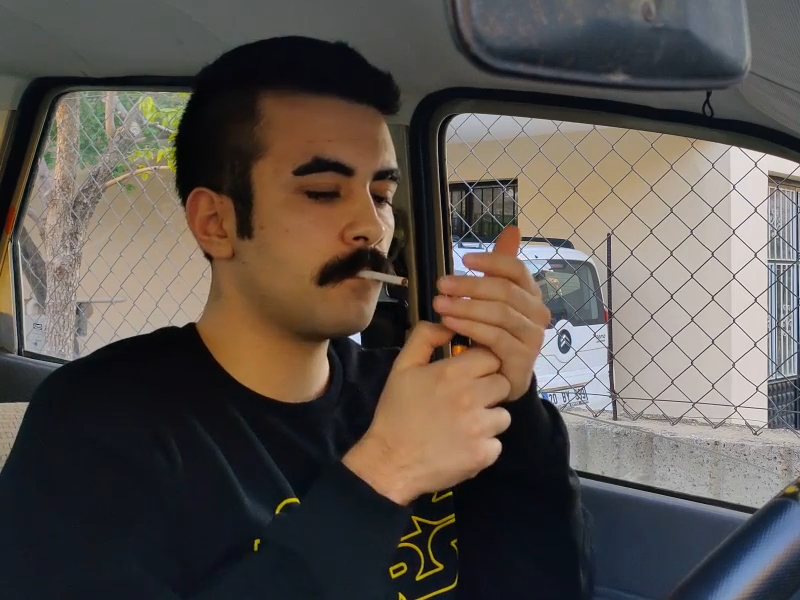sigara: (349, 264, 413, 292)
